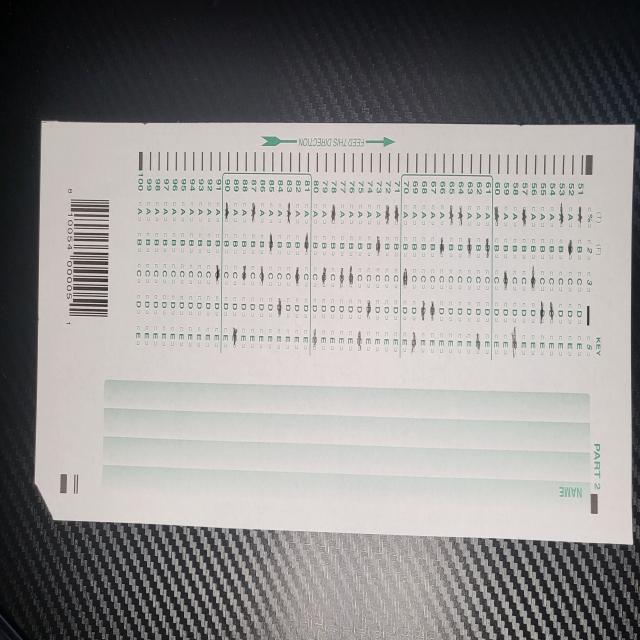scantron_back: (35, 122, 635, 544)
